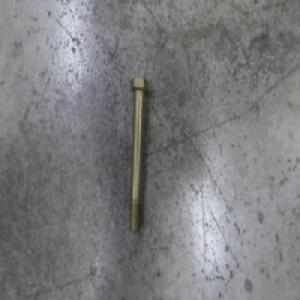Bolt: (128, 73, 150, 238)
